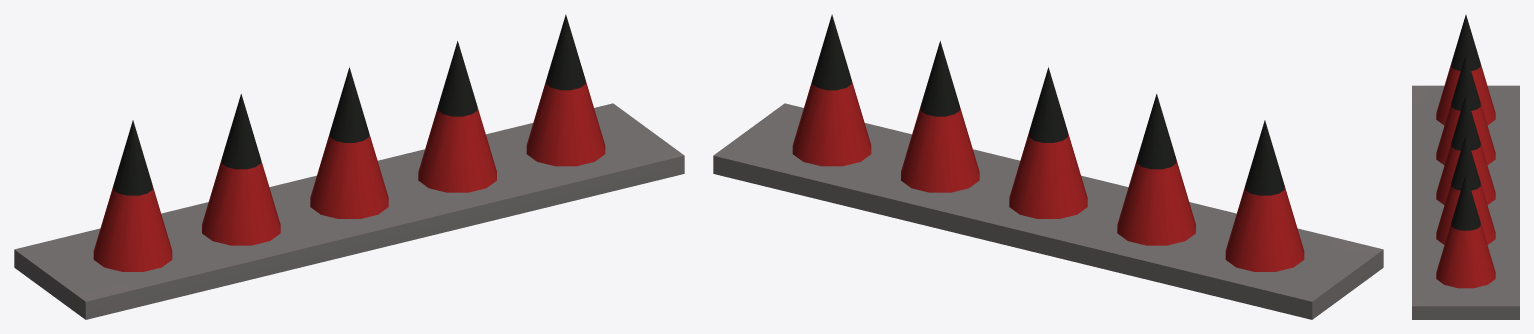
The model's file is Nobe.fbx.
3 views of the same model, side by side, from view 1: azimuth 30°, elevation 25°; view 2: azimuth 150°, elevation 25°; view 3: azimuth 270°, elevation 25° (orthographic). The views are drawn at different scales.
Parts seen in each view (by area): view 1: Nobe; view 2: Nobe; view 3: Nobe.
Boxes of the visible parts, x1,y1,x2,y2 form: Nobe: (14, 14, 684, 319); Nobe: (713, 14, 1383, 319); Nobe: (1412, 15, 1519, 319).
Size of the model in its own units: 245 by 60.08 by 50.62.
